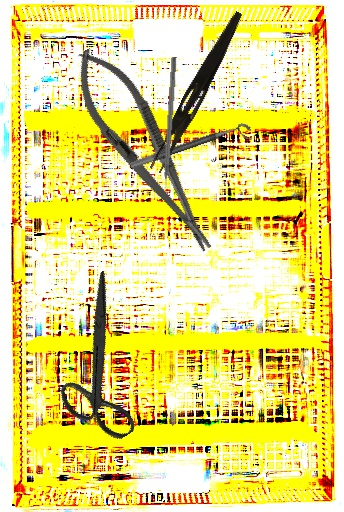Dressing Forceps: (148, 6, 246, 177)
Fixation Ring: (129, 121, 254, 179)
Hook Surgical: (160, 56, 178, 203)
Iris Scissors: (14, 269, 186, 456)
Needle Holder: (58, 36, 231, 266)
